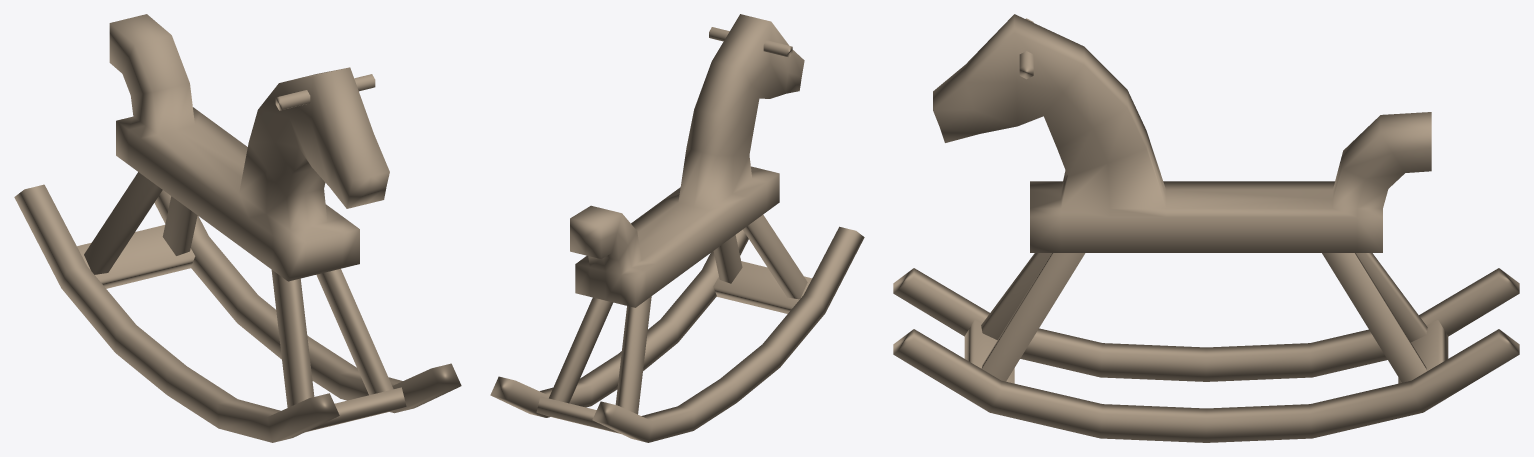
File: rockingHorse.fbx
3 renders of one model, left to right at view 1: azimuth 30°, elevation 25°; view 2: azimuth 150°, elevation 25°; view 3: azimuth 270°, elevation 25°, orthographic. The views are drawn at different scales.
Parts seen in each view (by area): view 1: rockingHorse_mesh; view 2: rockingHorse_mesh; view 3: rockingHorse_mesh.
Part boxes in pixels (x1,y1,x2,y2): rockingHorse_mesh: [14, 14, 461, 442]; rockingHorse_mesh: [490, 14, 864, 442]; rockingHorse_mesh: [893, 14, 1519, 442].
Bounding box in the file's own units: 20.93 × 52.72 × 77.94.
